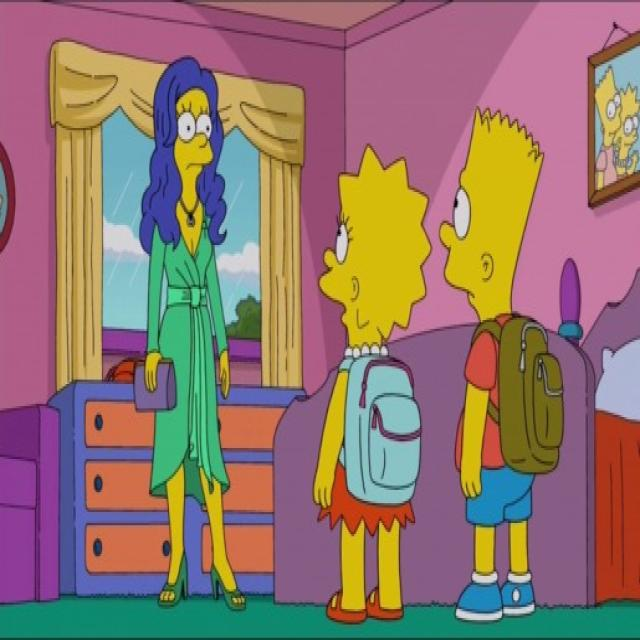Bart Simpson: (435, 95, 549, 342)
Lisa Simpson: (313, 132, 435, 371)
Marge Simpson: (136, 50, 228, 264)
